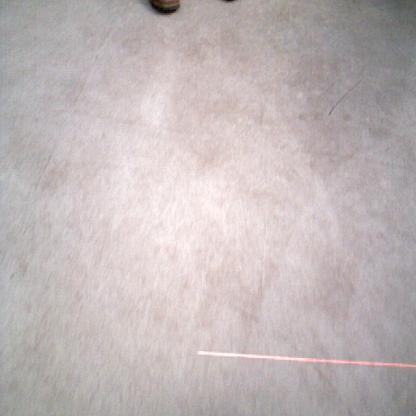mark: (328, 77, 364, 116)
